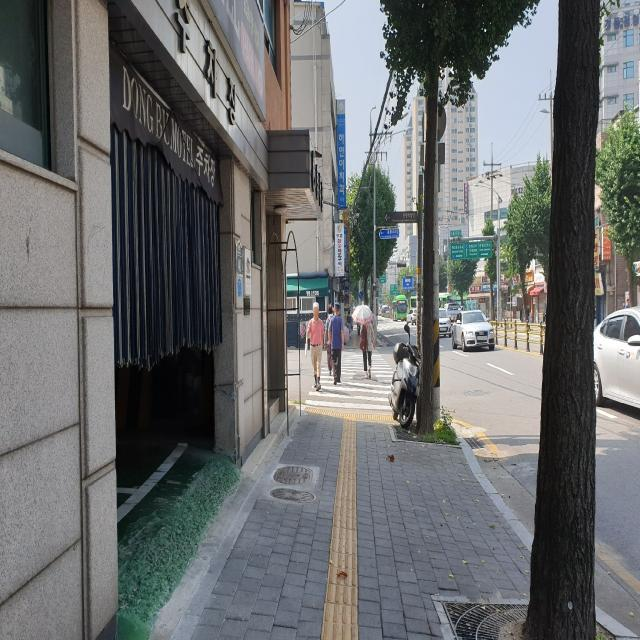횡단보도: (304, 348, 394, 410)
